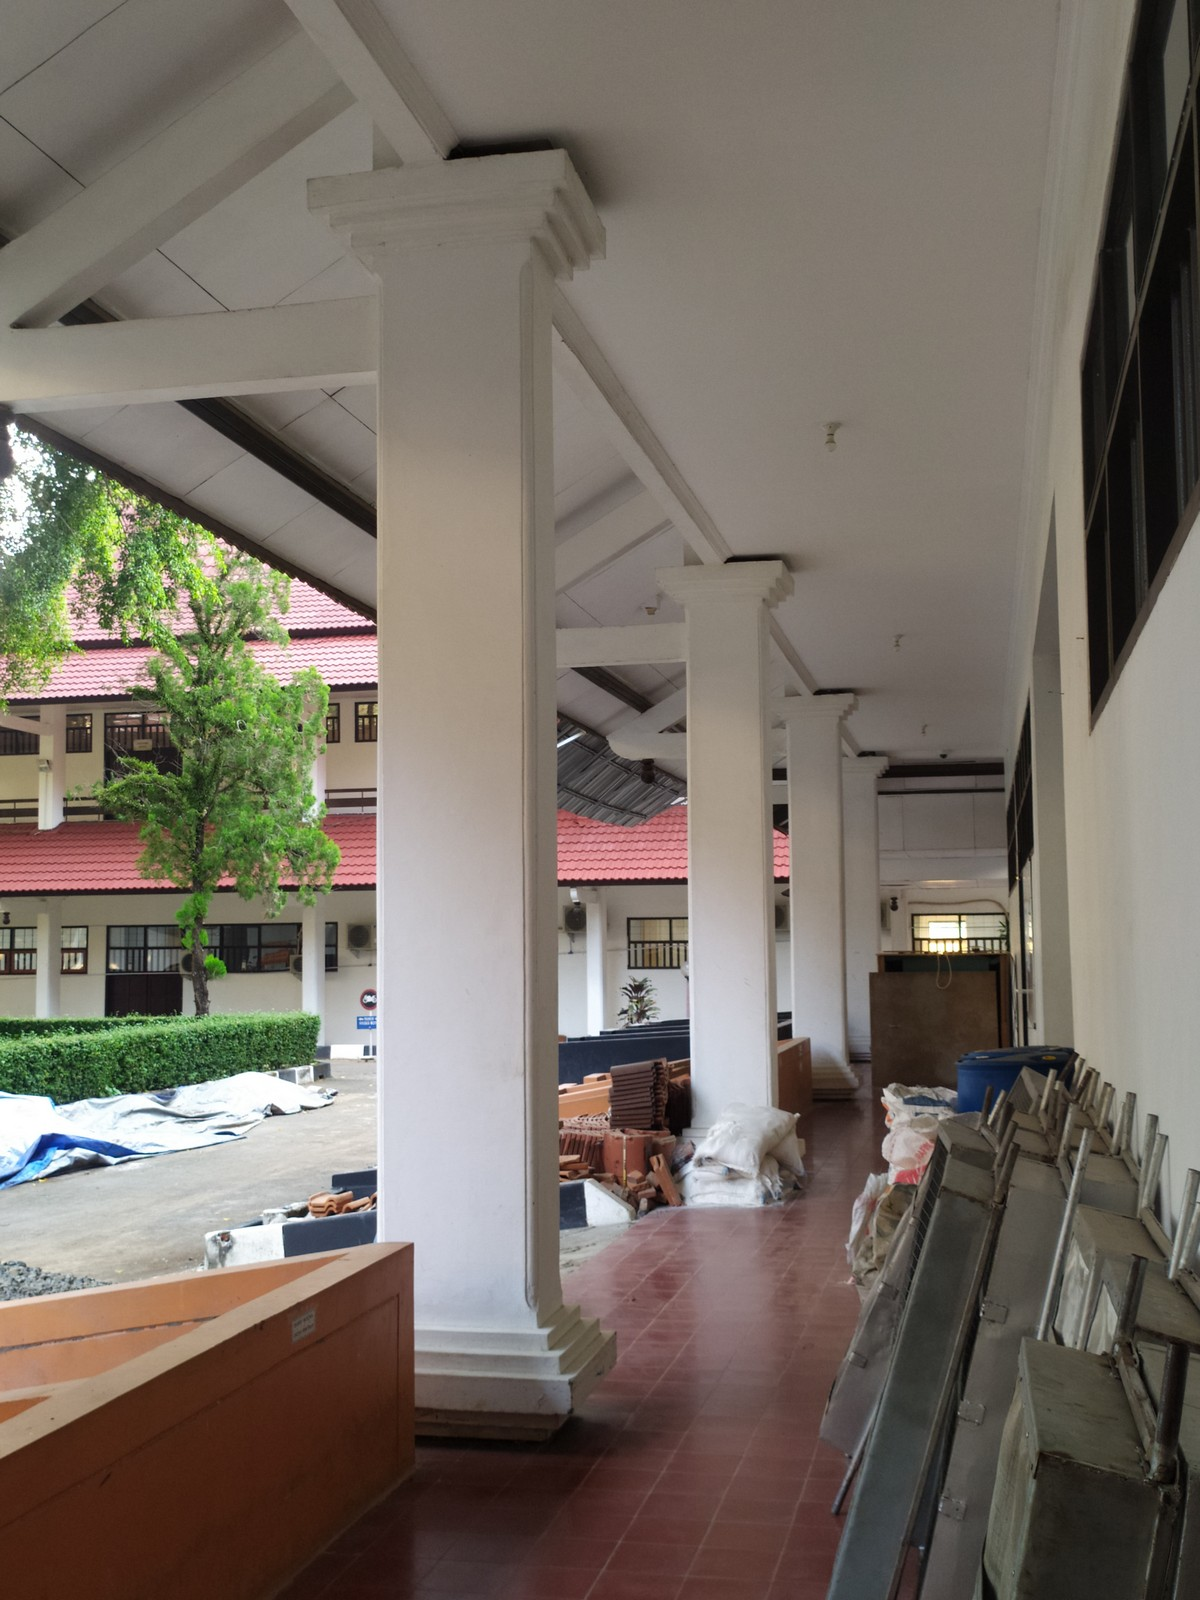concrete beam: (18, 294, 408, 414), (545, 615, 696, 671)
concrete column: (353, 229, 584, 1340), (673, 586, 789, 1138), (787, 707, 856, 1070)
